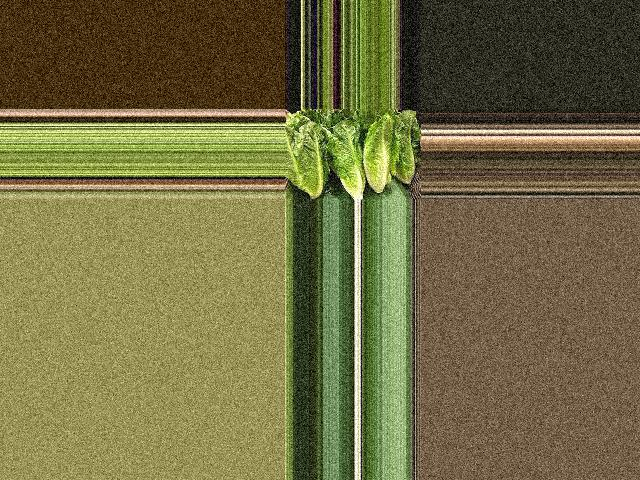lettuce: (393, 109, 415, 181)
